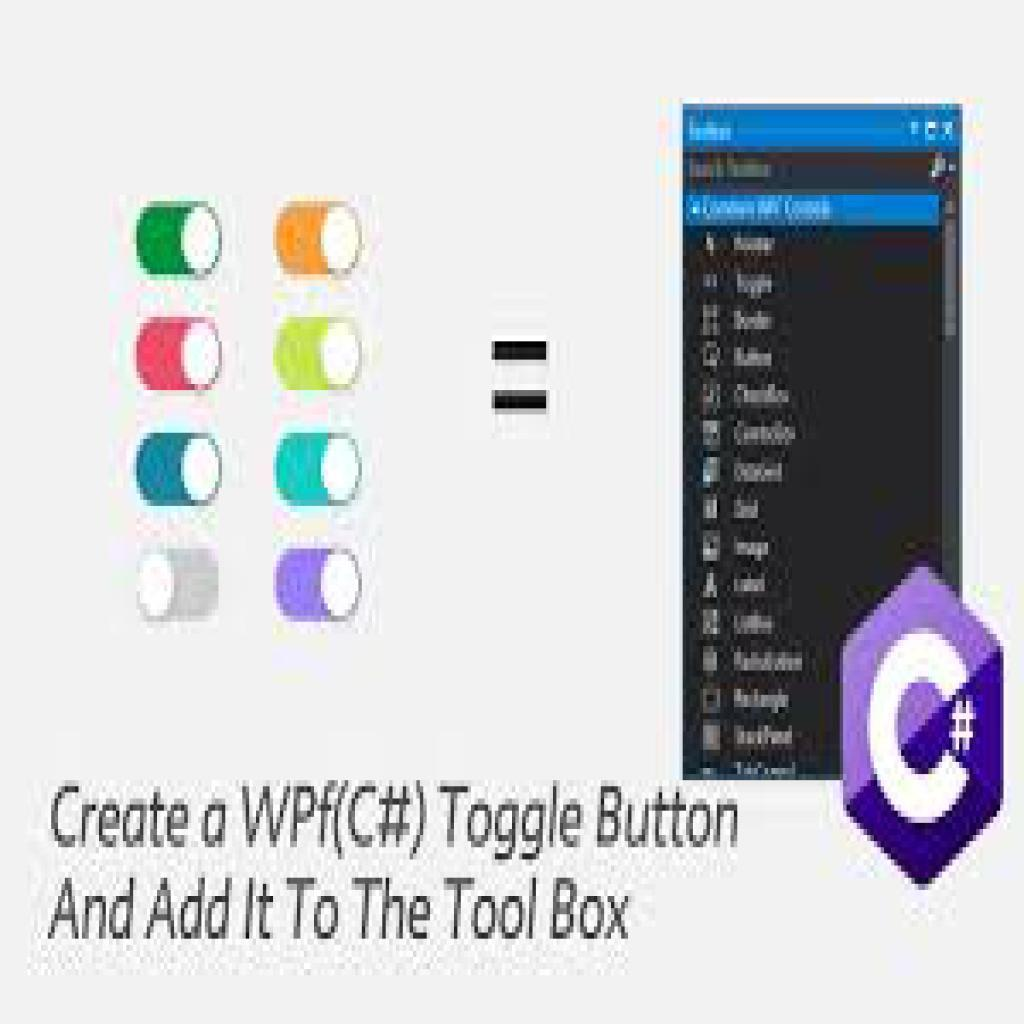switch: (126, 197, 229, 286), (131, 424, 228, 518), (265, 542, 368, 626), (271, 426, 369, 514), (130, 306, 223, 397), (276, 310, 368, 400), (266, 202, 369, 281), (131, 542, 225, 625)
